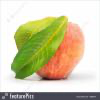Peach leaf: (12, 16, 68, 76), (15, 17, 54, 48)
